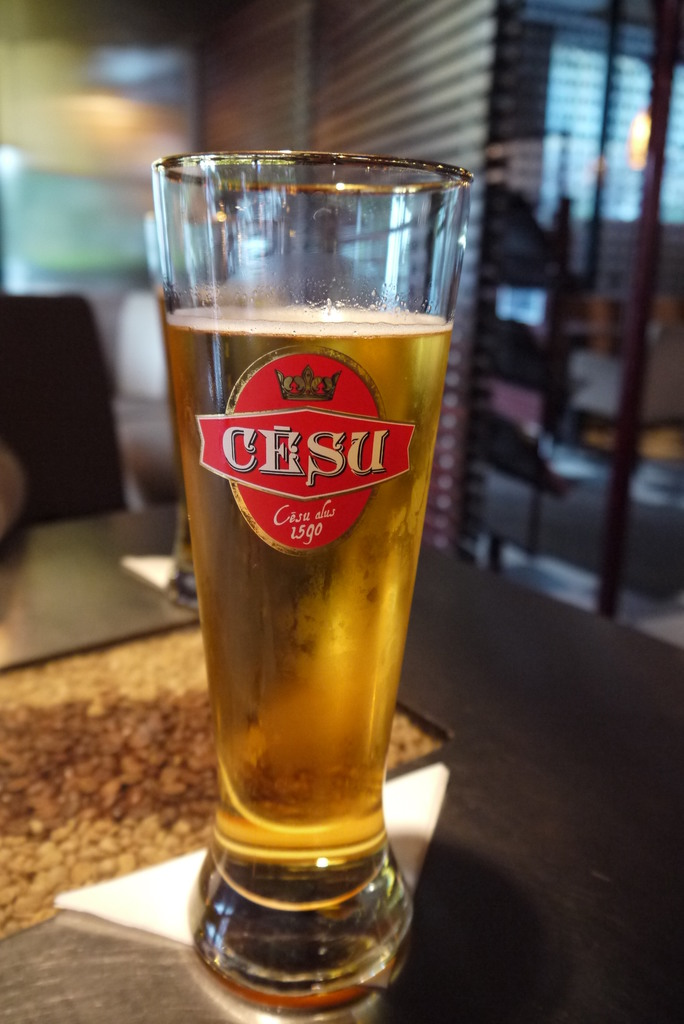Beer: (165, 307, 450, 1010)
